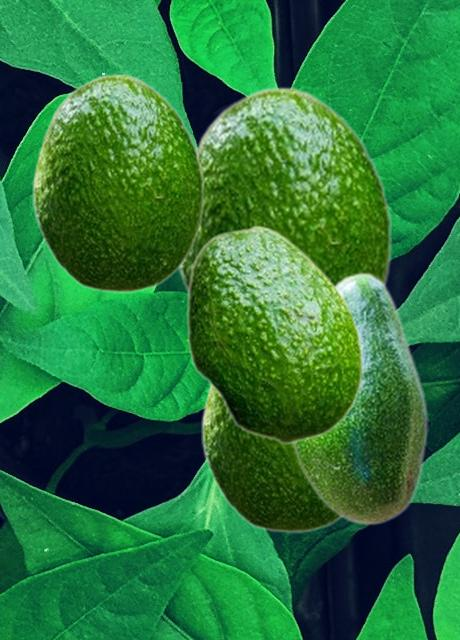avocado: (175, 86, 392, 299), (185, 224, 362, 443), (32, 73, 204, 292), (289, 271, 427, 525), (201, 383, 341, 532)
